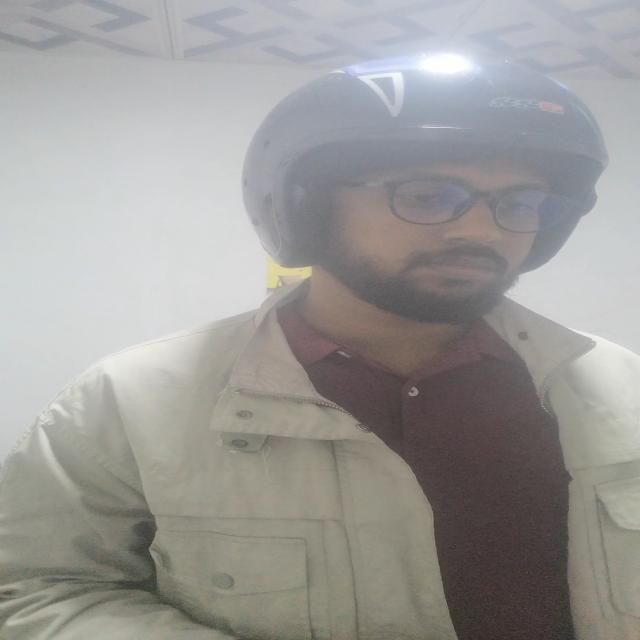Helmet_Wearer: (216, 60, 621, 342)
Jacket_Wearer: (1, 286, 639, 640)
Person: (18, 65, 640, 640)
